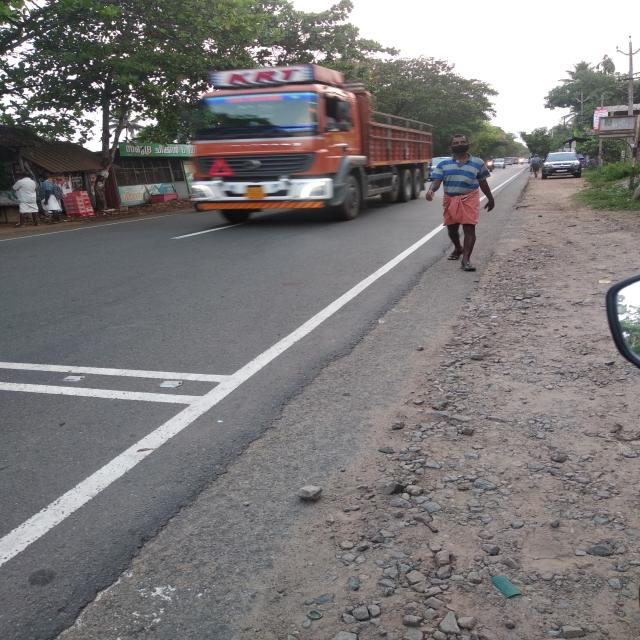Bike: (484, 158, 496, 176), (518, 155, 524, 169)
Car: (541, 146, 586, 182), (422, 154, 450, 176), (492, 156, 507, 170), (504, 155, 513, 165), (511, 157, 518, 167)
Truck: (156, 51, 448, 231)
